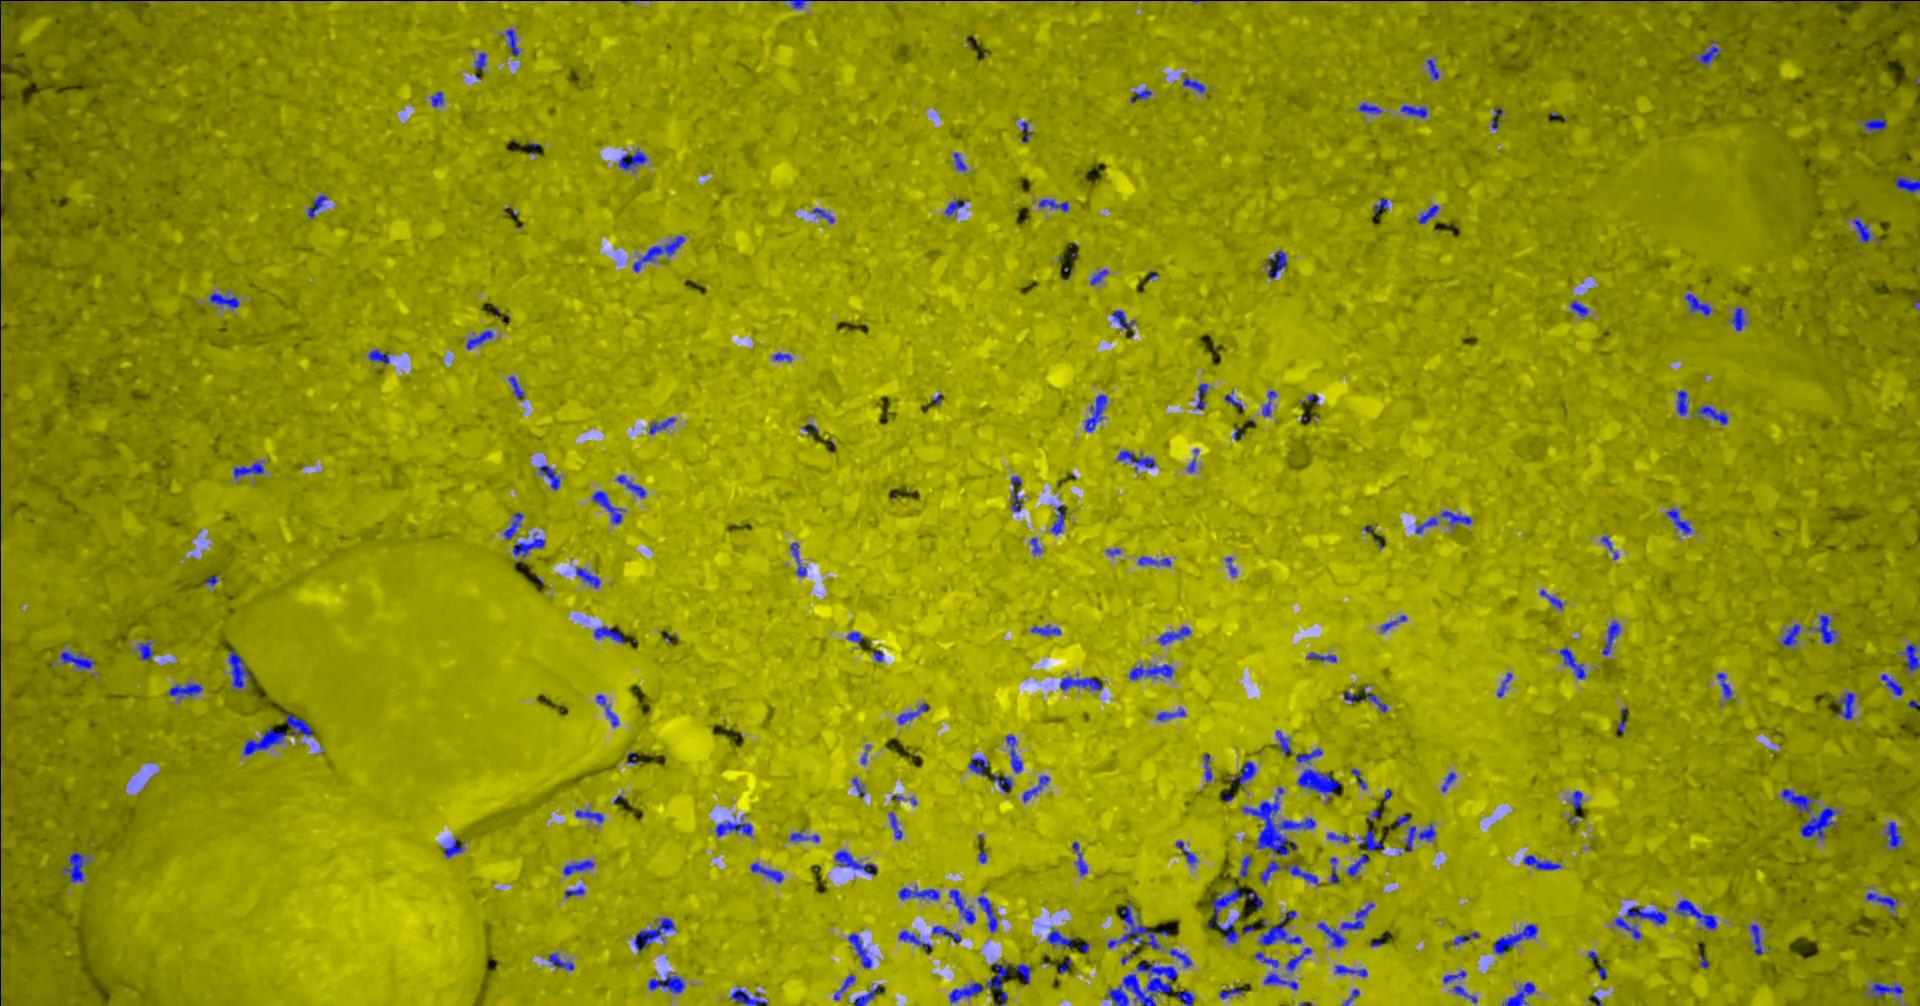ant: (1206, 887, 1263, 942), (949, 962, 1011, 1005), (1107, 902, 1161, 949), (632, 235, 684, 272), (1613, 906, 1666, 939), (1258, 909, 1302, 945), (632, 917, 674, 951), (1297, 768, 1340, 801), (1258, 860, 1317, 884), (1492, 923, 1537, 954), (1799, 807, 1837, 838), (243, 727, 286, 754), (1675, 899, 1716, 929), (833, 850, 877, 874), (592, 490, 623, 523), (949, 889, 975, 923), (1340, 902, 1374, 929), (229, 649, 251, 688), (847, 932, 871, 968), (1559, 647, 1585, 680), (1780, 788, 1813, 813), (1404, 824, 1435, 851), (60, 851, 86, 882), (1084, 394, 1106, 431), (648, 972, 684, 993), (596, 694, 618, 727), (977, 895, 997, 932), (1317, 922, 1346, 948), (898, 930, 932, 951), (512, 533, 543, 556), (1502, 982, 1534, 1005), (1022, 775, 1049, 801), (1116, 450, 1156, 467), (1128, 664, 1173, 680), (1601, 620, 1620, 655), (1004, 734, 1022, 772), (616, 474, 645, 497), (1059, 674, 1102, 690), (1666, 508, 1691, 533), (618, 147, 646, 170), (284, 713, 312, 735), (58, 652, 94, 669), (1815, 614, 1836, 643), (750, 862, 783, 882), (1697, 404, 1727, 424), (897, 702, 927, 723), (853, 984, 884, 1005), (1229, 761, 1255, 785), (1697, 39, 1719, 66), (730, 988, 767, 1005), (1046, 927, 1076, 948), (789, 542, 806, 575), (1157, 626, 1190, 644), (1865, 892, 1898, 909), (1865, 983, 1903, 998), (1266, 250, 1288, 277), (1684, 293, 1710, 315), (898, 885, 938, 899), (593, 625, 625, 643), (715, 821, 752, 836), (1286, 948, 1310, 970), (832, 974, 855, 998), (1263, 973, 1297, 989), (232, 460, 263, 478), (503, 512, 523, 539), (1898, 643, 1919, 669), (1523, 855, 1561, 869), (168, 683, 202, 699), (1072, 841, 1087, 875), (575, 567, 599, 588), (1175, 840, 1196, 864), (538, 464, 559, 489), (1451, 984, 1477, 1005), (465, 330, 491, 349), (563, 859, 593, 875), (648, 417, 676, 434), (1836, 691, 1854, 719), (1884, 821, 1902, 848), (1879, 673, 1902, 695), (1346, 854, 1368, 876), (307, 194, 328, 218), (1359, 829, 1383, 850), (1049, 504, 1065, 533), (931, 925, 960, 941), (1851, 218, 1870, 243), (1539, 589, 1563, 608), (1782, 622, 1801, 647), (1380, 614, 1406, 631), (210, 292, 239, 307), (1111, 310, 1134, 329), (1168, 948, 1191, 967), (1895, 174, 1919, 192), (549, 951, 573, 969), (1440, 511, 1470, 525), (442, 838, 463, 857), (1010, 475, 1021, 511), (1716, 672, 1731, 699), (1496, 672, 1512, 696), (1275, 730, 1291, 754), (888, 812, 902, 840), (1037, 198, 1068, 211), (1261, 390, 1276, 415), (968, 756, 988, 775), (990, 774, 1011, 793), (1750, 923, 1763, 954), (1365, 694, 1387, 711), (811, 207, 834, 224), (1415, 517, 1437, 533), (505, 28, 519, 55), (1295, 748, 1322, 762), (1156, 708, 1185, 720), (1862, 116, 1886, 131), (508, 375, 523, 399), (1418, 205, 1437, 224), (1224, 391, 1243, 410), (943, 198, 964, 216), (1399, 104, 1427, 117), (575, 809, 603, 822), (1451, 931, 1479, 944), (1182, 77, 1205, 93), (1730, 307, 1745, 330), (1030, 624, 1060, 635), (1255, 951, 1277, 967), (1137, 556, 1170, 567), (1350, 768, 1366, 789), (1335, 965, 1368, 976), (367, 349, 389, 365), (1015, 963, 1030, 984), (1195, 384, 1208, 409), (1570, 300, 1589, 316), (1441, 771, 1457, 791), (789, 831, 819, 841), (1341, 988, 1359, 1005), (1491, 107, 1503, 130), (1676, 390, 1688, 415), (137, 641, 152, 661), (1443, 970, 1465, 983), (1175, 989, 1194, 1005), (1615, 708, 1625, 735), (1357, 102, 1382, 113), (1129, 89, 1150, 102), (1090, 269, 1107, 285), (1326, 832, 1349, 843), (1218, 987, 1241, 998), (1307, 652, 1336, 661), (1203, 753, 1211, 782), (1371, 197, 1387, 213), (1020, 121, 1031, 142), (1239, 855, 1251, 876), (851, 777, 863, 796), (1570, 790, 1582, 809), (1330, 856, 1338, 883), (1426, 58, 1437, 79), (952, 152, 965, 170), (474, 52, 486, 69), (1058, 956, 1070, 973), (564, 887, 584, 897), (785, 0, 811, 8), (430, 91, 443, 107), (846, 631, 862, 643), (1030, 537, 1041, 553), (772, 352, 791, 361), (1812, 0, 1919, 1)
